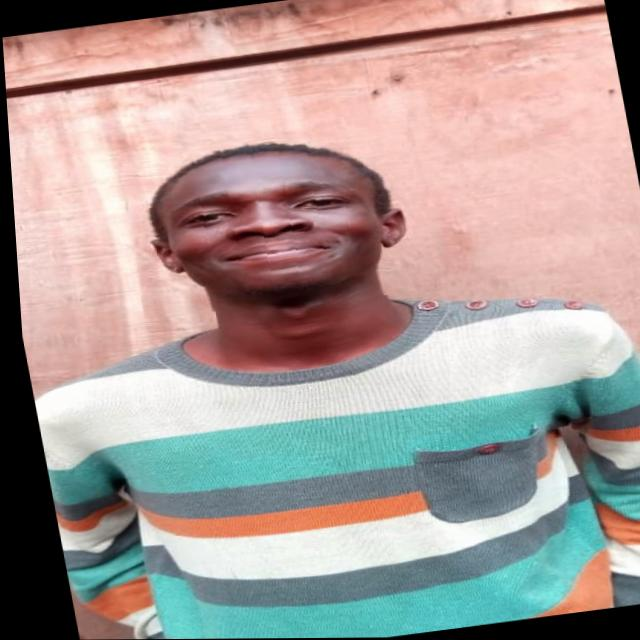happy: (112, 119, 434, 325)
